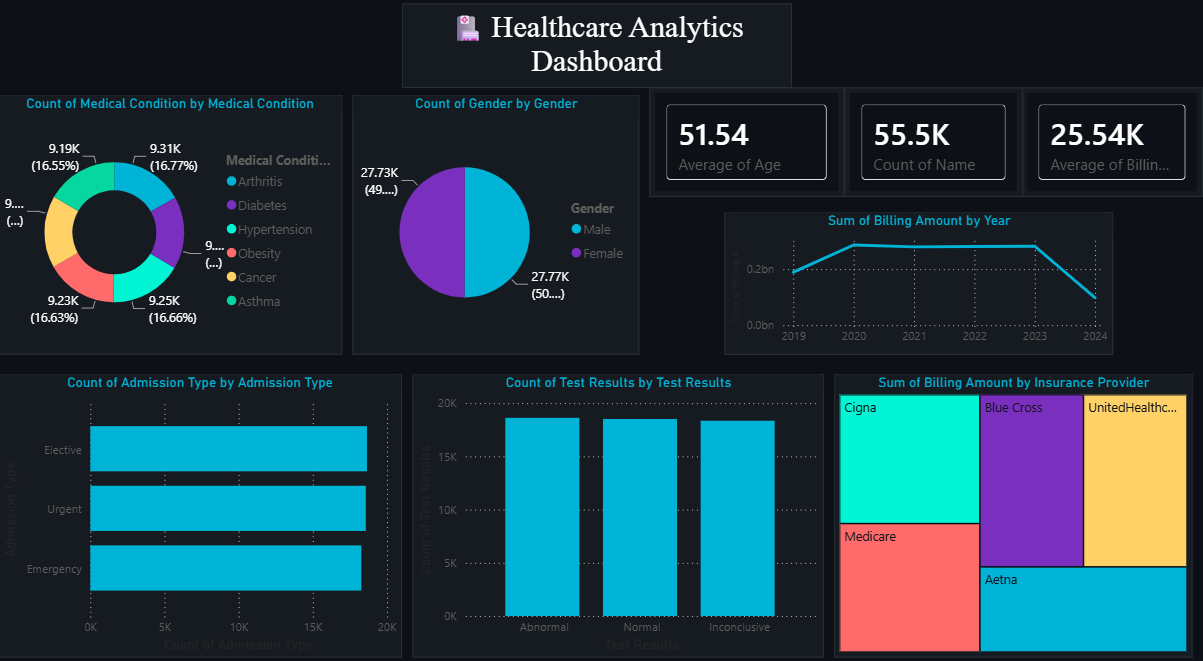

The page's visual inventory and layout, read from the dashboard file:
{"tool":"powerbi","page":{"name":"Page 1","canvas":[1280,720],"ordinal":0},"visuals":[{"type":"donutChart","fields":{"Category":["healthcare_dataset.Medical Condition"],"Y":["CountNonNull(healthcare_dataset.Medical Condition)"]},"box":[0,111.3,365.8,275.2],"z":0},{"type":"clusteredBarChart","fields":{"Category":["healthcare_dataset.Admission Type"],"Y":["CountNonNull(healthcare_dataset.Admission Type)"]},"box":[0,407.2,429.5,300.6],"z":1000},{"type":"pieChart","fields":{"Category":["healthcare_dataset.Gender"],"Y":["CountNonNull(healthcare_dataset.Gender)"]},"box":[377,111.3,303.8,275.2],"z":2000},{"type":"clusteredColumnChart","fields":{"Category":["healthcare_dataset.Test Results"],"Y":["CountNonNull(healthcare_dataset.Test Results)"]},"box":[440.6,407.2,435.8,300.6],"z":2001},{"type":"cardVisual","fields":{"Data":["Avg(healthcare_dataset.Age)"]},"box":[691.9,103.4,206.8,116.1],"z":2002},{"type":"cardVisual","fields":{"Data":["Avg(healthcare_dataset.Billing Amount)"]},"box":[1086.4,103.4,192.5,116.1],"z":2003},{"type":"cardVisual","fields":{"Data":["CountNonNull(healthcare_dataset.Name)"]},"box":[898.7,103.4,189.3,116.1],"z":2004},{"type":"textbox","box":[429.5,14.3,413.6,89.1],"z":2005},{"type":"lineChart","fields":{"Category":["healthcare_dataset.Date of Admission.Variation.Date Hierarchy.Year","healthcare_dataset.Date of Admission.Variation.Date Hierarchy.Quarter","healthcare_dataset.Date of Admission.Variation.Date Hierarchy.Month","healthcare_dataset.Date of Admission.Variation.Date Hierarchy.Day"],"Y":["Sum(healthcare_dataset.Billing Amount)"]},"box":[771.4,235.4,412,151.1],"z":2006},{"type":"treemap","fields":{"Group":["healthcare_dataset.Insurance Provider"],"Values":["Sum(healthcare_dataset.Billing Amount)"]},"box":[887.6,407.2,380.2,300.6],"z":2007}]}

Visuals, with their boxes in screenshot pixels (x1, y1, x2, y2), scaled from the page's 1280x720 canvas onto the 1203x661 screenshot:
donutChart - healthcare_dataset.Medical Condition x CountNonNull(healthcare_dataset.Medical Condition): 0, 102, 344, 355
clusteredBarChart - healthcare_dataset.Admission Type x CountNonNull(healthcare_dataset.Admission Type): 0, 374, 404, 650
pieChart - healthcare_dataset.Gender x CountNonNull(healthcare_dataset.Gender): 354, 102, 640, 355
clusteredColumnChart - healthcare_dataset.Test Results x CountNonNull(healthcare_dataset.Test Results): 414, 374, 824, 650
cardVisual - Avg(healthcare_dataset.Age): 650, 95, 845, 202
cardVisual - Avg(healthcare_dataset.Billing Amount): 1021, 95, 1202, 202
cardVisual - CountNonNull(healthcare_dataset.Name): 845, 95, 1023, 202
textbox: 404, 13, 792, 95
lineChart - healthcare_dataset.Date of Admission.Variation.Date Hierarchy.Year x healthcare_dataset.Date of Admission.Variation.Date Hierarchy.Quarter: 725, 216, 1112, 355
treemap - healthcare_dataset.Insurance Provider x Sum(healthcare_dataset.Billing Amount): 834, 374, 1192, 650
